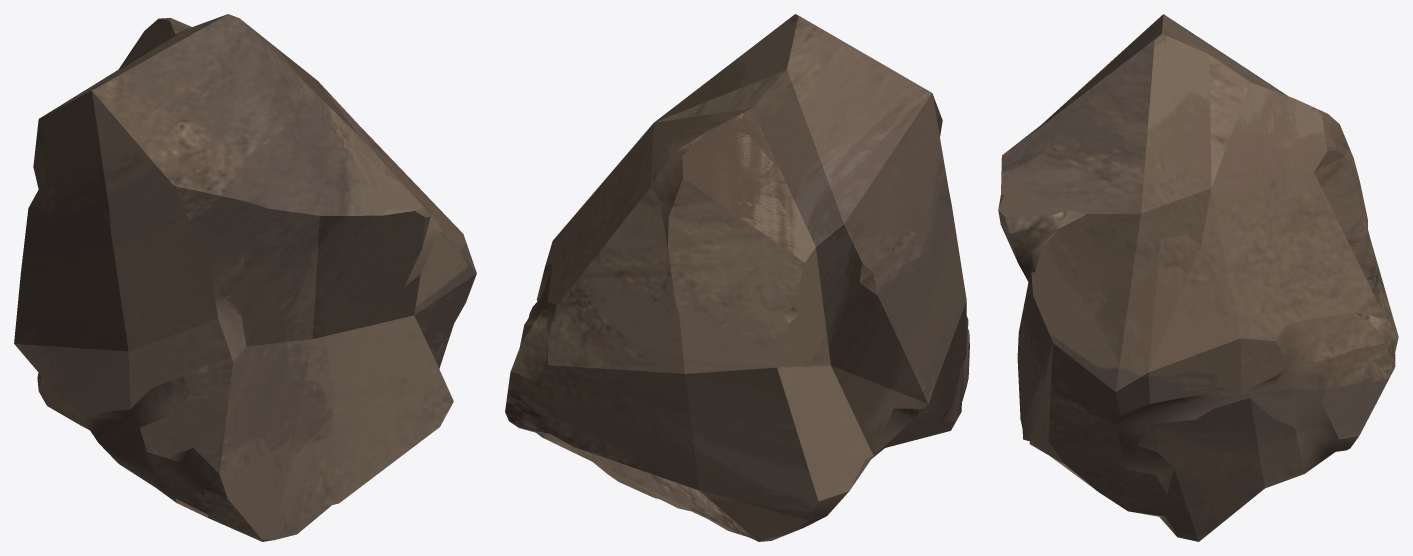
Rendered from P_ROCK 7.fbx.
3 renders of one model, left to right at view 1: azimuth 30°, elevation 25°; view 2: azimuth 150°, elevation 25°; view 3: azimuth 270°, elevation 25°, orthographic. The views are drawn at different scales.
Visible parts, largest first — view 1: Rock_07; view 2: Rock_07; view 3: Rock_07.
Boxes of the visible parts, x1,y1,x2,y2 form: Rock_07: [14, 14, 476, 541]; Rock_07: [505, 14, 969, 541]; Rock_07: [998, 14, 1398, 541].
Bounding box in the file's own units: 162 × 191 × 158.
